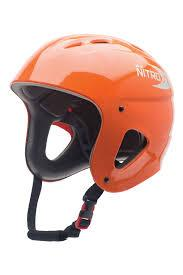helmet: (0, 0, 183, 264)
